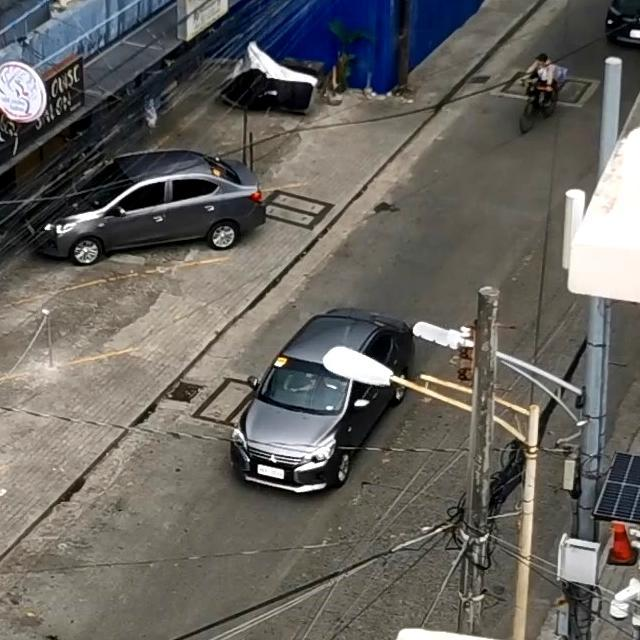Car: (224, 304, 402, 482), (32, 148, 252, 265)
